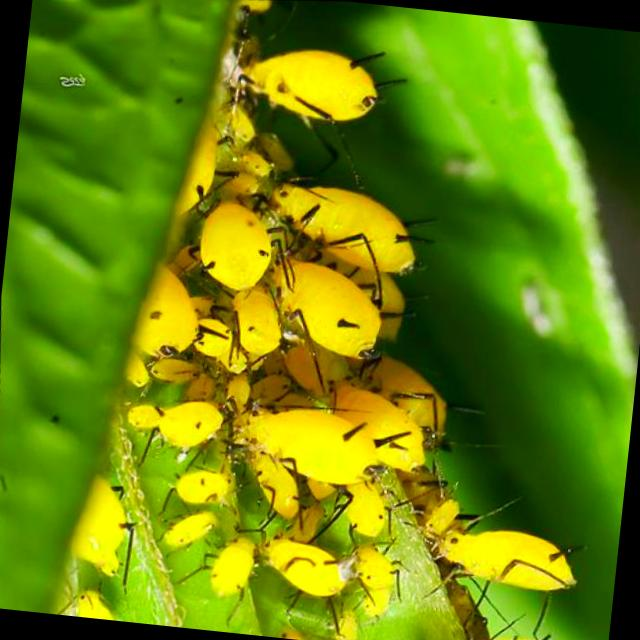aphid: (254, 142, 456, 290), (214, 20, 427, 157), (398, 496, 597, 630), (210, 378, 403, 510), (259, 248, 396, 376), (188, 184, 282, 299), (116, 265, 205, 363), (254, 518, 350, 606), (131, 384, 222, 458), (223, 285, 290, 364), (202, 522, 268, 598), (170, 462, 232, 514), (160, 502, 221, 554)
